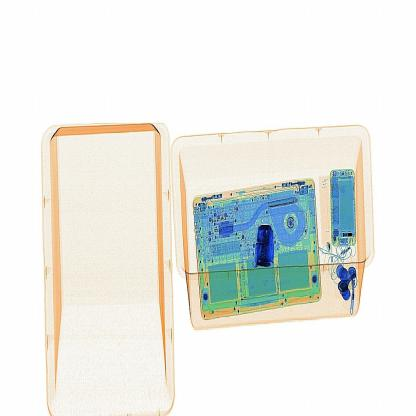scissors: (252, 222, 286, 266)
